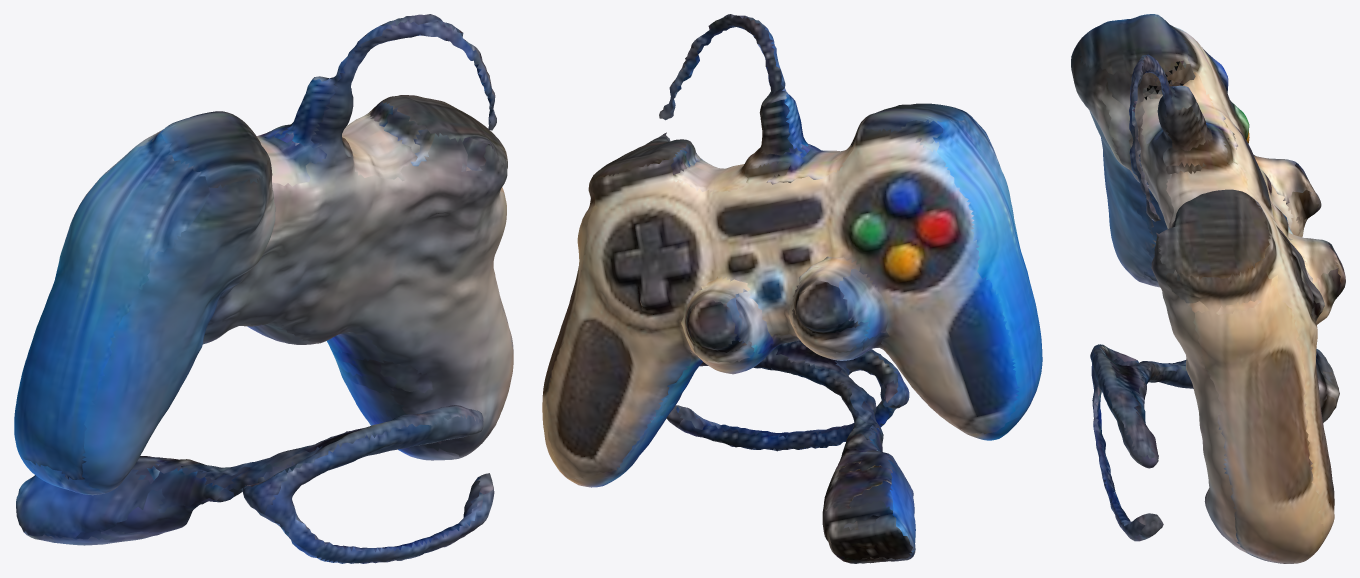
3 views of the same model, side by side, from view 1: azimuth 30°, elevation 25°; view 2: azimuth 150°, elevation 25°; view 3: azimuth 270°, elevation 25° (orthographic). The views are drawn at different scales.
Visible parts, largest first — view 1: world; view 2: world; view 3: world.
Boxes of the visible parts, left/top/right/bottom form: world: left=14, top=14, right=513, bottom=563; world: left=542, top=14, right=1042, bottom=563; world: left=1071, top=14, right=1345, bottom=563.
Size of the model in its own units: 0.8986 by 0.8633 by 0.4656.
1 material, 1 textured.
